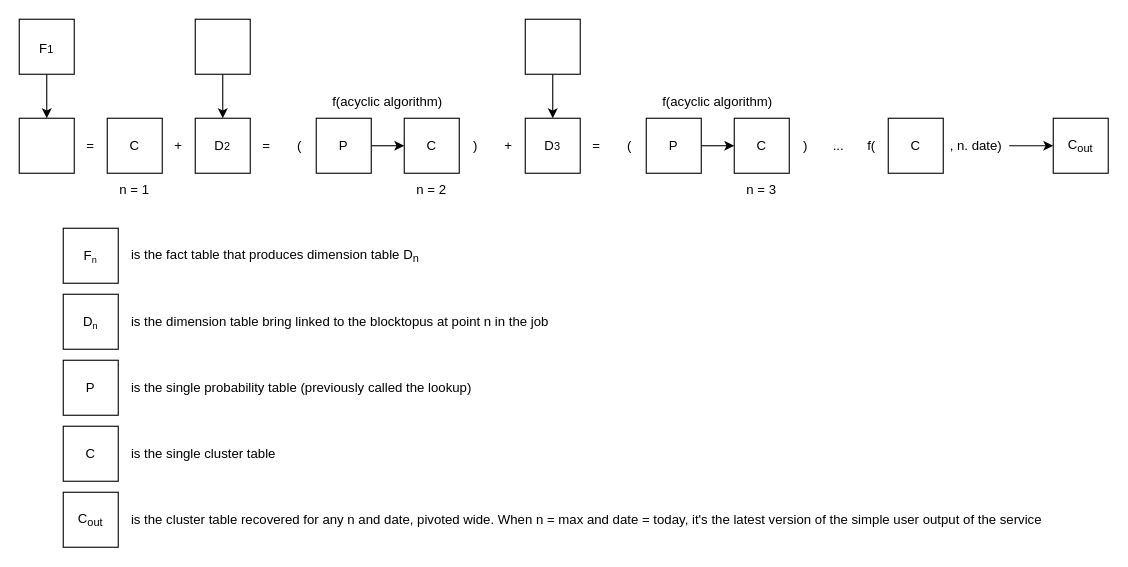
Some shapes in this 1128 by 567 pixel diagram are drawn without their labels. Each missing label, with the box of its shape:
D 1: (18, 117, 74, 173)
F 2: (194, 18, 250, 74)
F 3: (524, 18, 580, 74)
